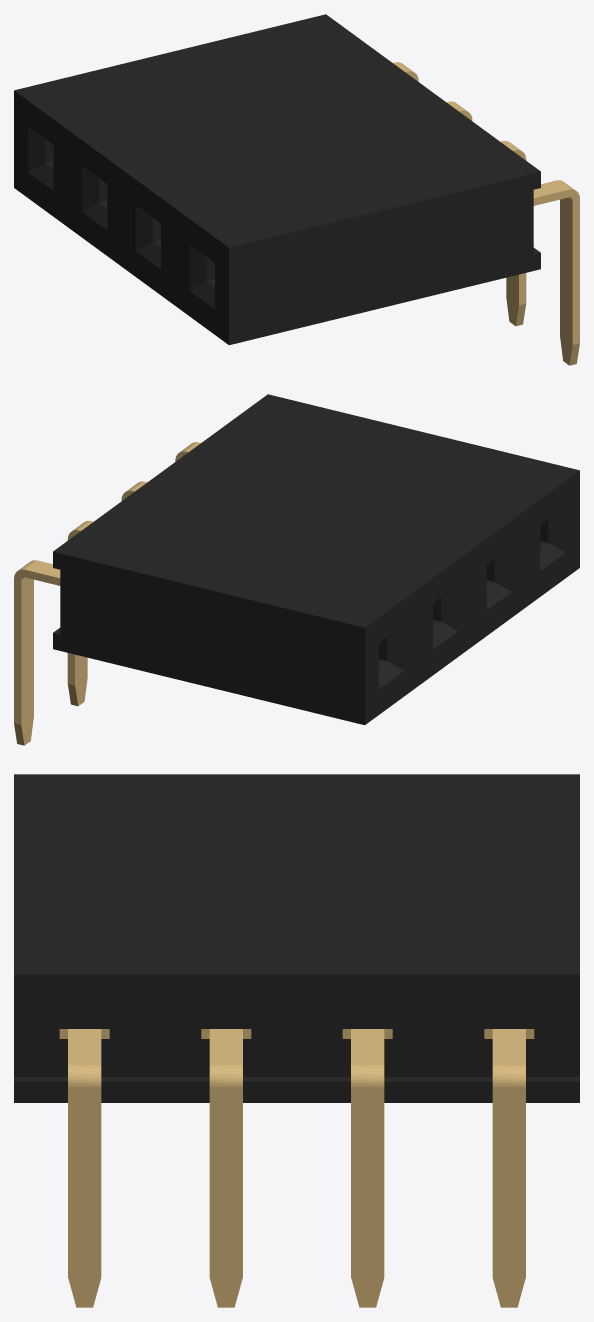
Rendered from kc-pinsocket_1x04_p2.54mm_horizontal.glb.
The picture shows the model from 3 angles, top to bottom: view 1: azimuth 30°, elevation 25°; view 2: azimuth 150°, elevation 25°; view 3: azimuth 270°, elevation 25°; orthographic projection. The views are drawn at different scales.
Visible parts, largest first — view 1: 0_0_0_0, 0.75_0.5_0.25_0.9; view 2: 0_0_0_0, 0.75_0.5_0.25_0.9; view 3: 0_0_0_0, 0.75_0.5_0.25_0.9.
Part boxes in pixels (bbox=[...]): 0_0_0_0: bbox=[14, 14, 540, 345]; 0.75_0.5_0.25_0.9: bbox=[393, 62, 579, 365]; 0_0_0_0: bbox=[53, 394, 579, 725]; 0.75_0.5_0.25_0.9: bbox=[14, 442, 200, 745]; 0_0_0_0: bbox=[14, 774, 579, 1102]; 0.75_0.5_0.25_0.9: bbox=[59, 1029, 534, 1307].
Bounding box in the file's own units: 1.01 × 0.584 × 1.02.
